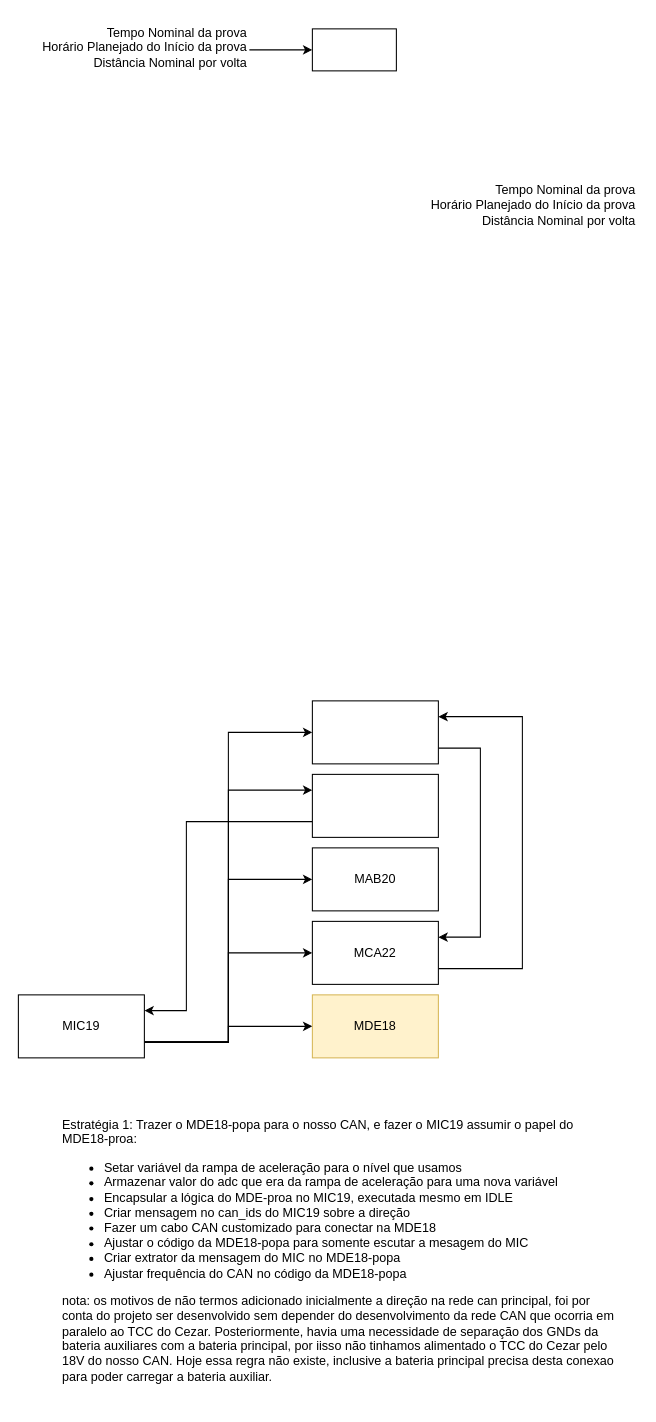
Image size: 656x1422. Some labels were removed from this diagram. The centre of each missing label's shape, as x and y in pixels:
"MAM17" belongs at (x=374, y=732).
"MCS19" belongs at (x=374, y=805).
